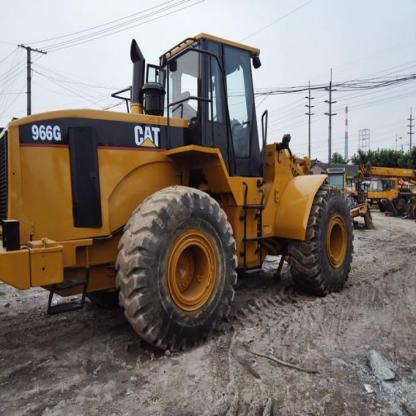bull_dozer/loader/grader: (2, 24, 360, 361)
